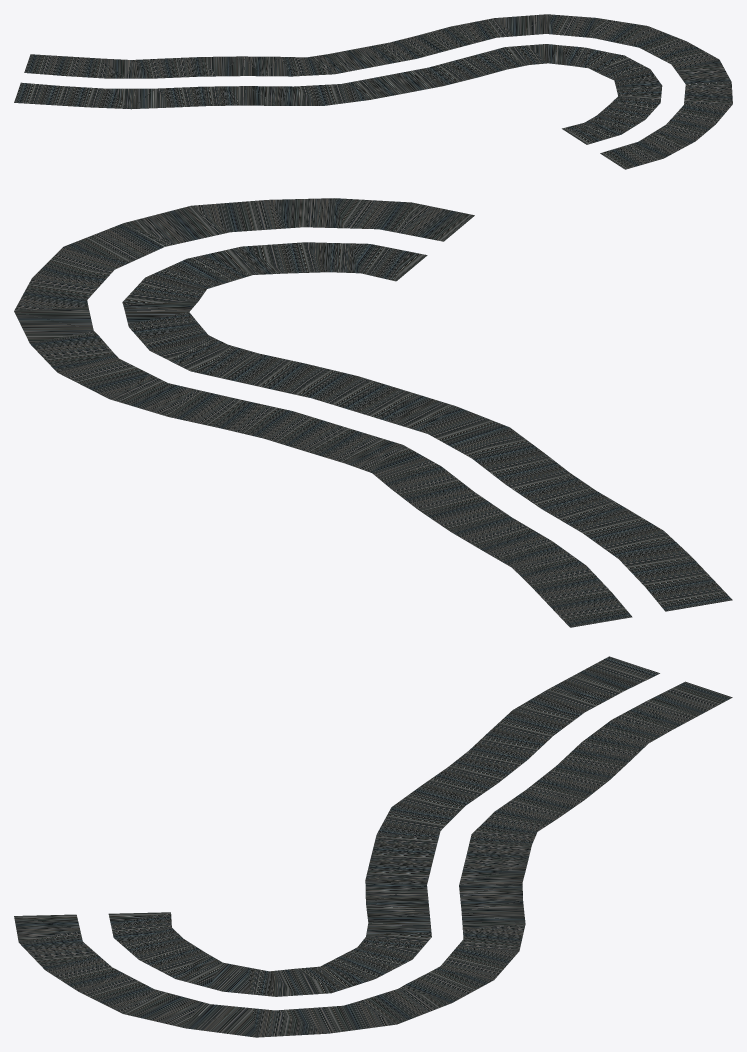
File: Ground2Intro.glb
The picture shows the model from 3 angles, top to bottom: view 1: azimuth 30°, elevation 25°; view 2: azimuth 150°, elevation 25°; view 3: azimuth 270°, elevation 25°; orthographic projection. The views are drawn at different scales.
Parts seen in each view (by area): view 1: Ground2Mesh; view 2: Ground2Mesh; view 3: Ground2Mesh.
Boxes of the visible parts, bbox=[...] form: Ground2Mesh: bbox=[14, 14, 732, 169]; Ground2Mesh: bbox=[14, 198, 732, 627]; Ground2Mesh: bbox=[14, 656, 732, 1037].
Size of the model in its own units: 228 by 0.5422 by 183.
1 material, 1 textured.
